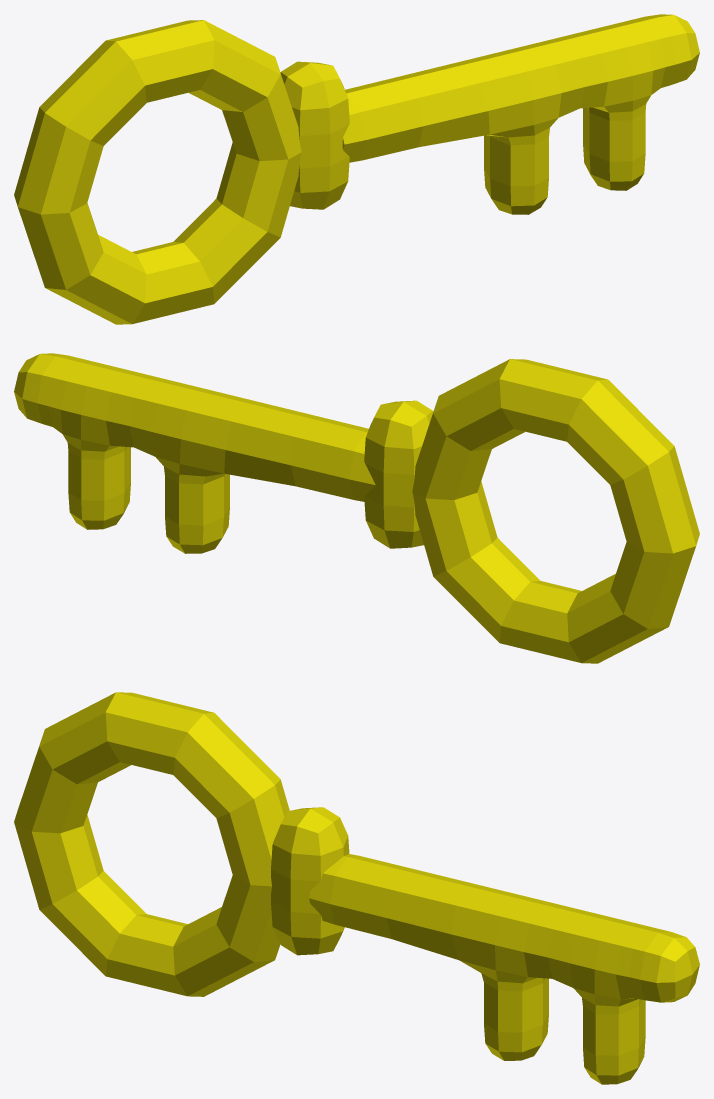
Rendered from Key.fbx.
3 renders of one model, top to bottom at view 1: azimuth 30°, elevation 25°; view 2: azimuth 150°, elevation 25°; view 3: azimuth 330°, elevation 25°, orthographic.
Parts seen in each view (by area): view 1: Cube; view 2: Cube; view 3: Cube.
Part boxes in pixels (box(x1,y1,x2,y2)): Cube: box(14, 14, 699, 324); Cube: box(14, 353, 699, 663); Cube: box(14, 692, 699, 1084).
Size of the model in its own units: 3.08 by 1.23 by 0.3143.
